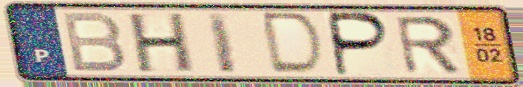B: (58, 10, 129, 74)
D: (261, 10, 328, 78)
H: (127, 11, 196, 75)
I: (203, 11, 241, 76)
P: (328, 10, 394, 79)
R: (391, 14, 465, 76)
